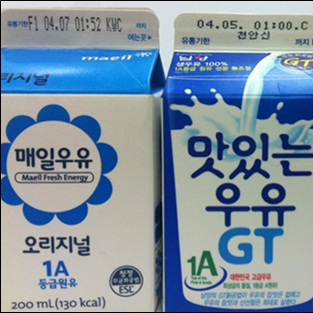milk: (1, 7, 164, 312), (164, 13, 313, 312)
